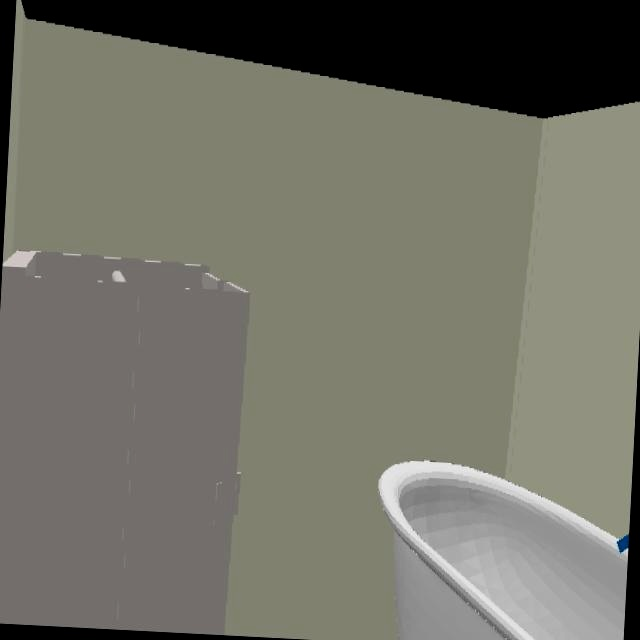bathtube: (376, 461, 628, 640)
shower: (0, 252, 250, 634)
